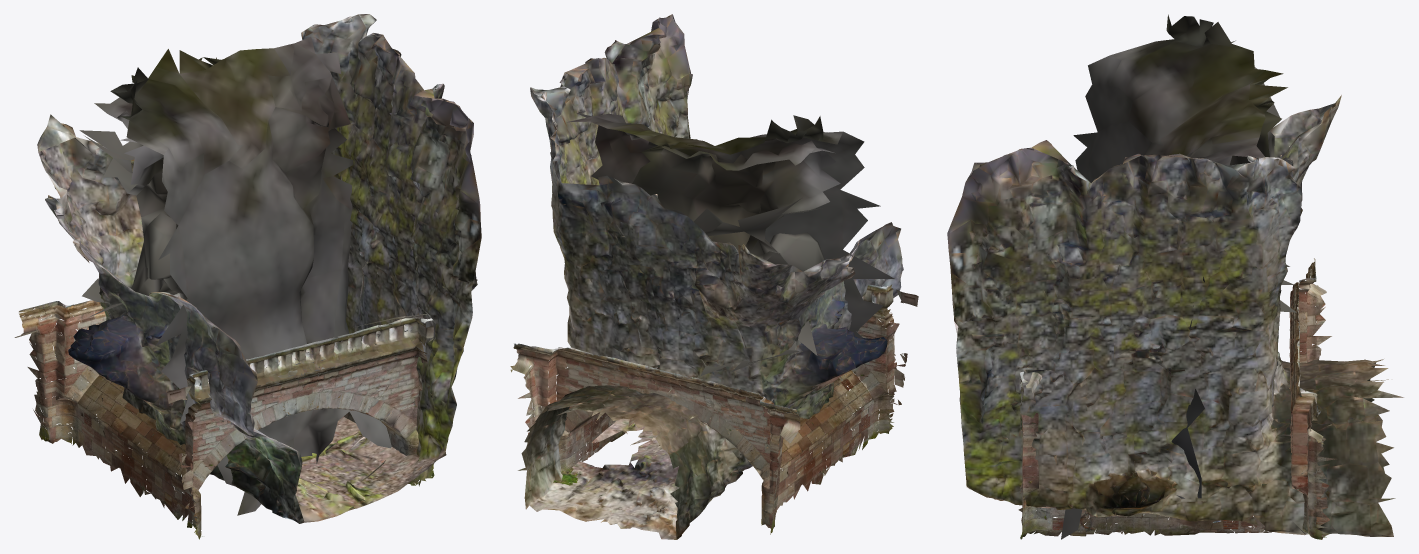
Rendered from w1_tunnel.glb.
The picture shows the model from 3 angles, left to right: view 1: azimuth 30°, elevation 25°; view 2: azimuth 150°, elevation 25°; view 3: azimuth 270°, elevation 25°; orthographic projection. The views are drawn at different scales.
Visible parts, largest first — view 1: portal, cliff, arch; view 2: portal, cliff, arch; view 3: portal, cliff, arch.
Part boxes in pixels (<box>): portal: <box>37,14,481,523</box>; cliff: <box>79,36,393,515</box>; arch: <box>14,300,434,539</box>; portal: <box>518,14,903,539</box>; cliff: <box>567,113,894,375</box>; arch: <box>510,284,918,534</box>; portal: <box>947,95,1403,536</box>; cliff: <box>1061,14,1296,539</box>; arch: <box>1018,258,1336,539</box>.
Bounding box in the file's own units: 19.87 × 22.6 × 21.94.
Materials: 4 (4 with a texture image).
